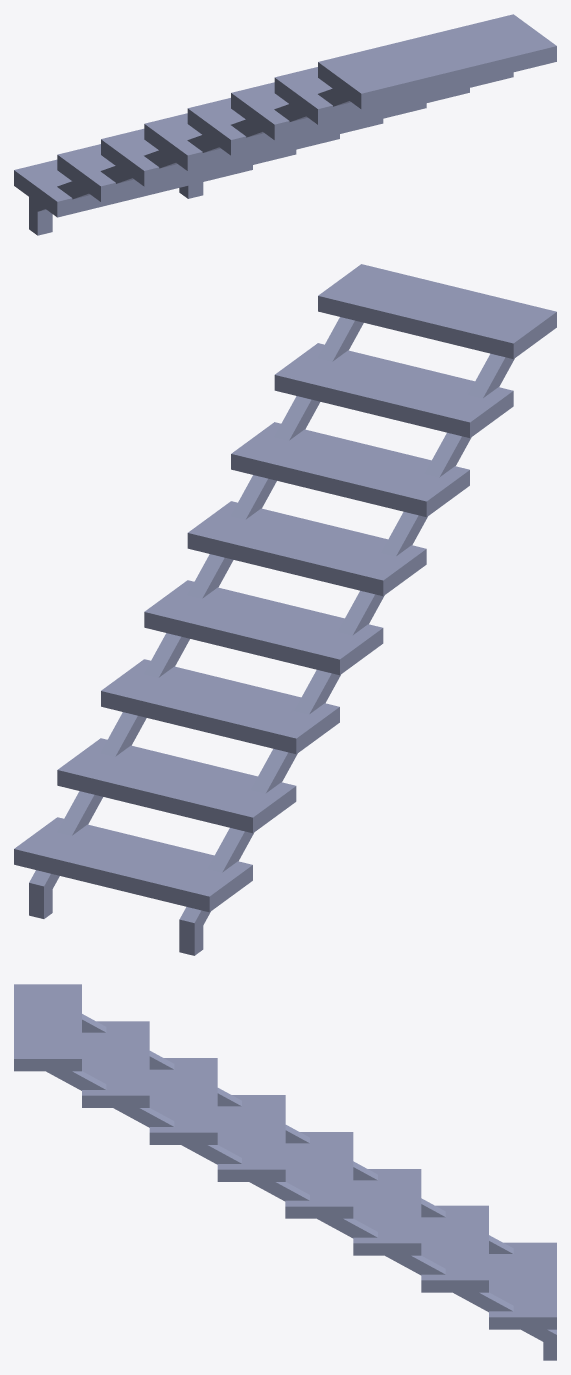
The model's file is stairs-open.obj.
The picture shows the model from 3 angles, top to bottom: view 1: azimuth 30°, elevation 25°; view 2: azimuth 150°, elevation 25°; view 3: azimuth 270°, elevation 25°; orthographic projection. The views are drawn at different scales.
Bounding box in the file's own units: 1.3 × 2.5 × 4.
